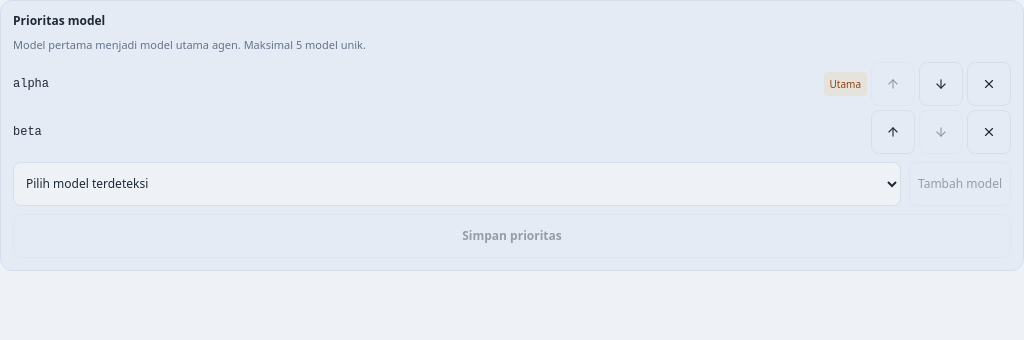
ModelPriorityEditor › does not claim success after write failure
Expected: the text "alpha" is shown, [13,76,49,90]
Click the button named "Naikkan beta". click: click(893, 132)
box: [871,110,915,154]
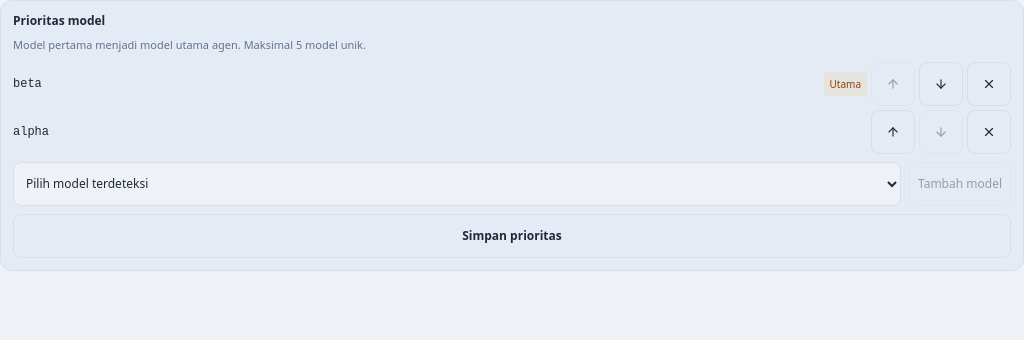
Click the button "Simpan prioritas". click: click(512, 236)
box: [13,214,1011,258]
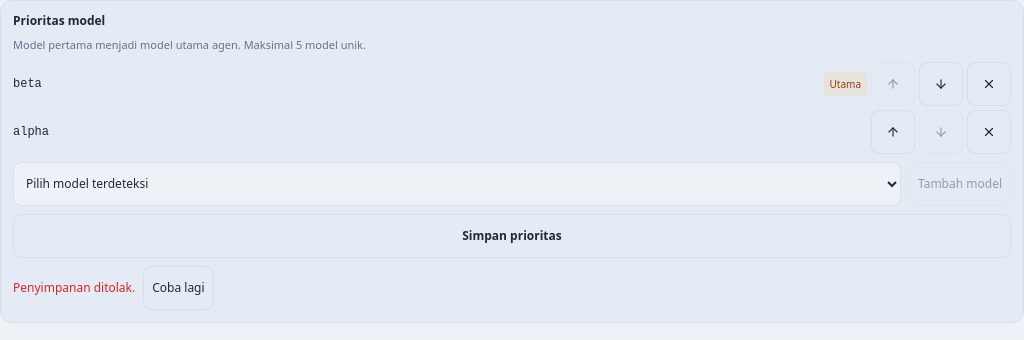
Expected: the button "Simpan prioritas" is enabled, [13,214,1011,258]
Expected: the message "Penyimpanan ditolak. Coba lagi" is shown, [13,266,214,310]
